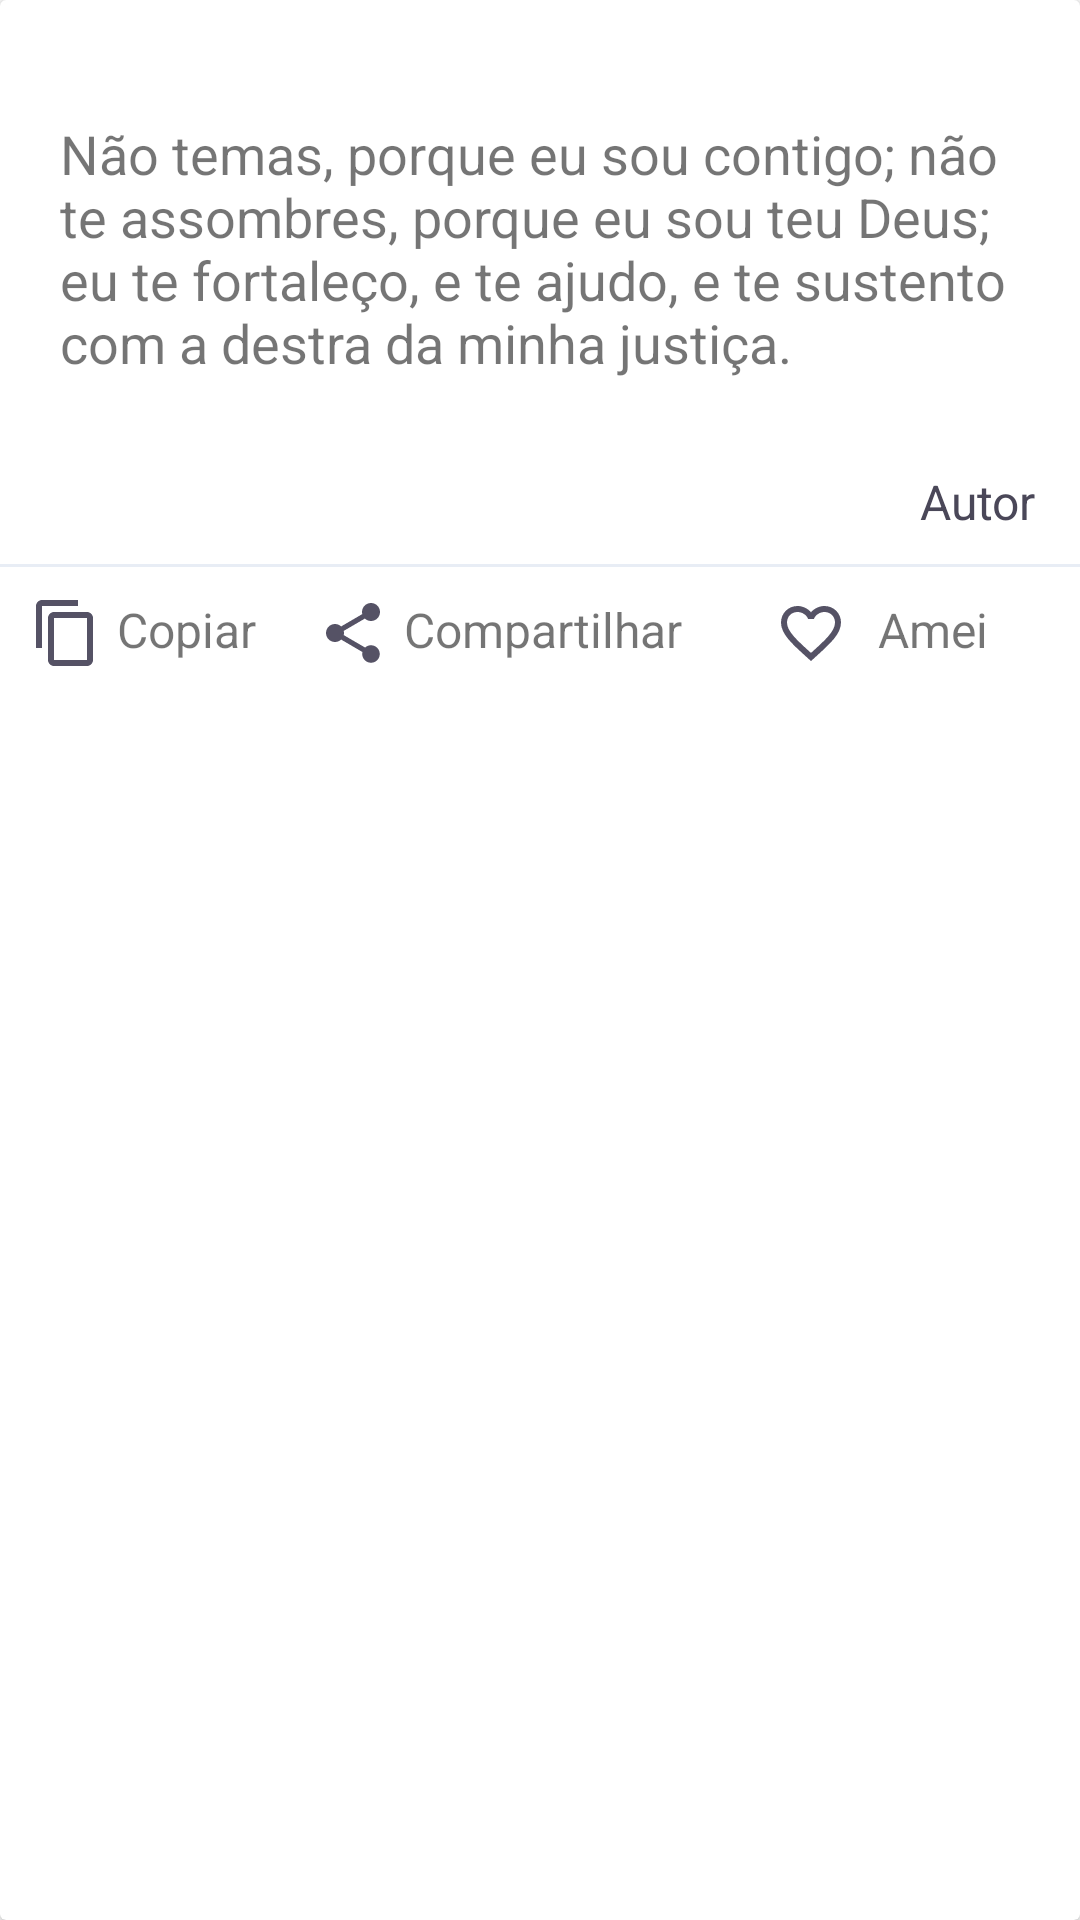

Named icons in this screenshot (1080w x 1920h) and their centers, (x,y):
favorite: (811,633)
